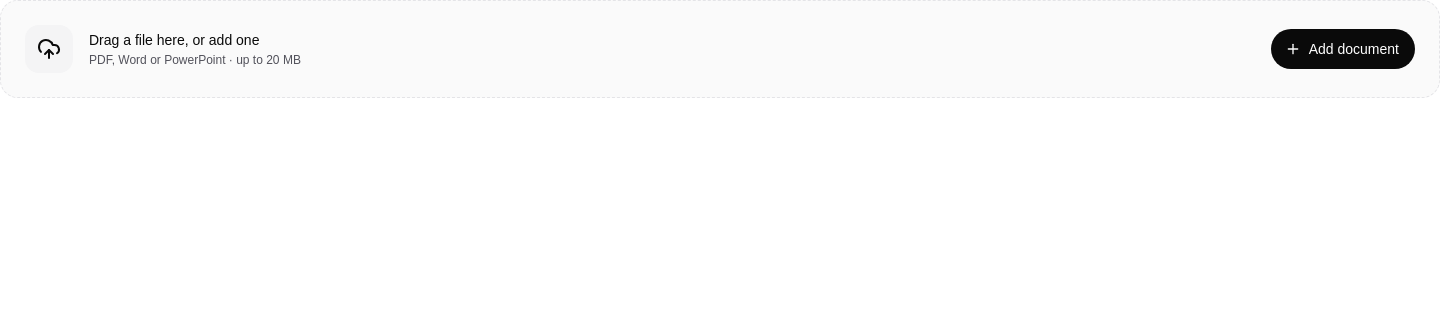
Scenario: UploadPanel › hides Google Drive when it is not configured and disables upcoming sources
Step 1. Click the button "Add document" → point(1343, 49), box [1271,29,1415,69]
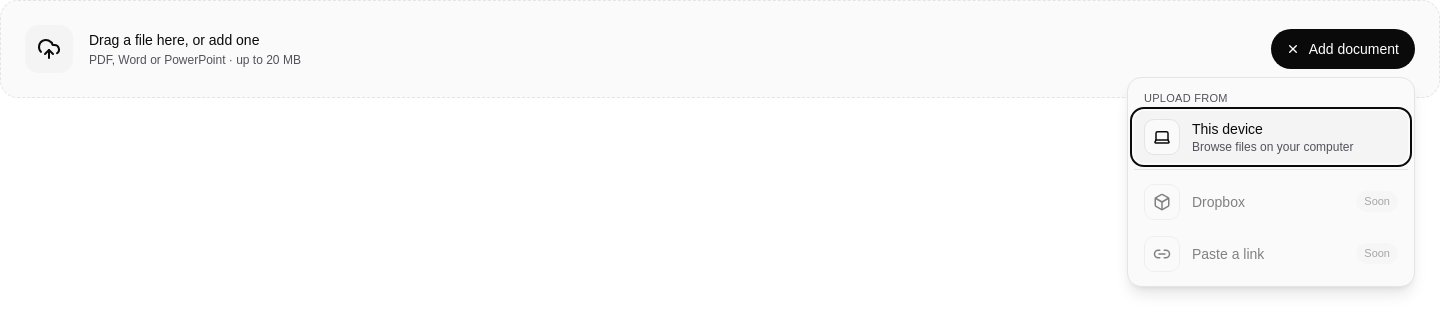
Now the menu item "Dropbox Soon" is disabled, box [1134,176,1408,228]
